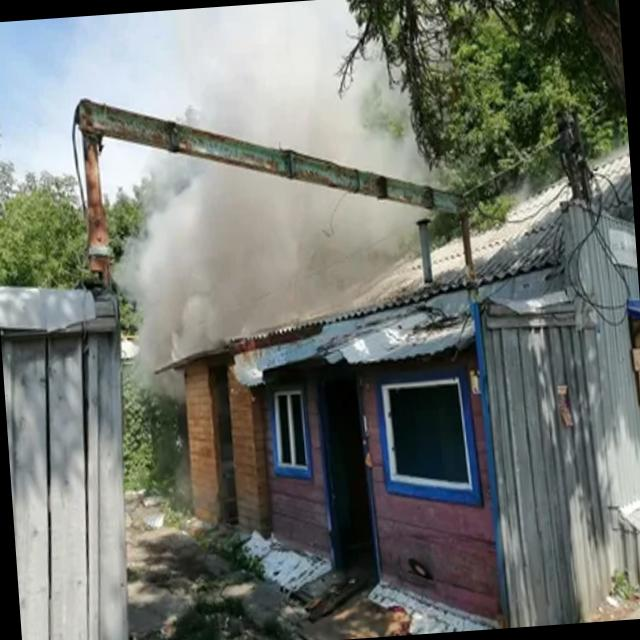Smoke: (106, 0, 448, 351)
